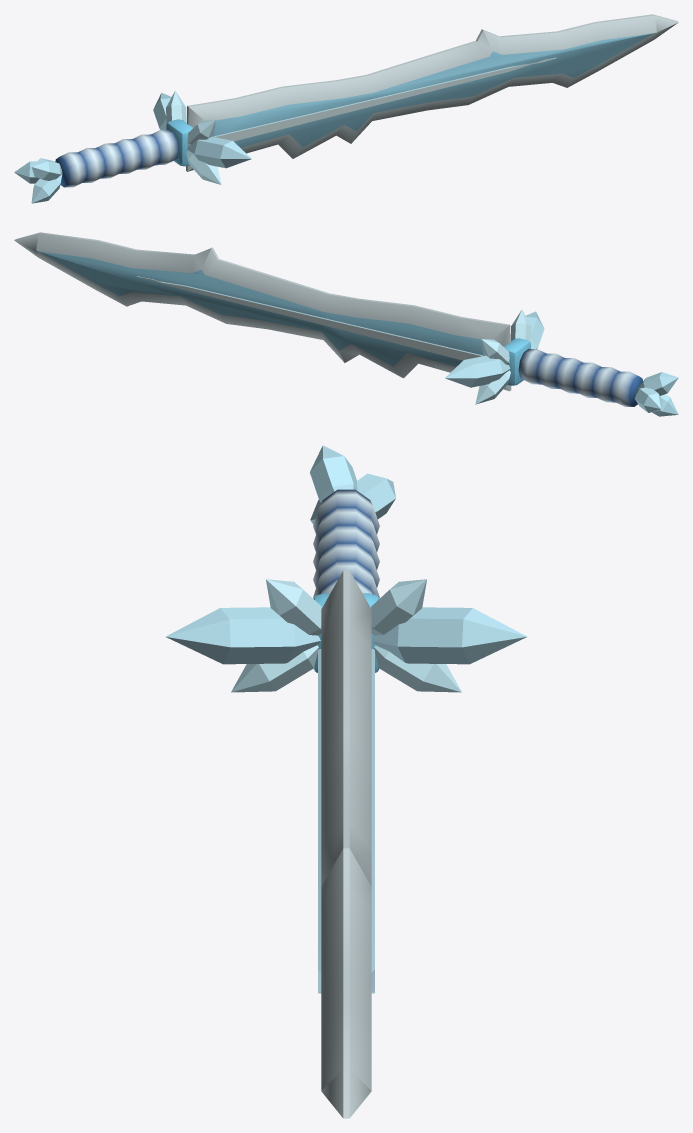
File: sword_ice.glb
3 views of the same model, one above another, from view 1: azimuth 30°, elevation 25°; view 2: azimuth 150°, elevation 25°; view 3: azimuth 270°, elevation 25° (orthographic). The views are drawn at different scales.
Visible parts, largest first — view 1: sword_ice; view 2: sword_ice; view 3: sword_ice.
Part boxes in pixels (bbox=[...]): sword_ice: bbox=[14, 14, 678, 203]; sword_ice: bbox=[14, 232, 678, 416]; sword_ice: bbox=[165, 445, 527, 1118].
Bounding box in the file's own units: 1.49 × 0.1795 × 0.3577.
